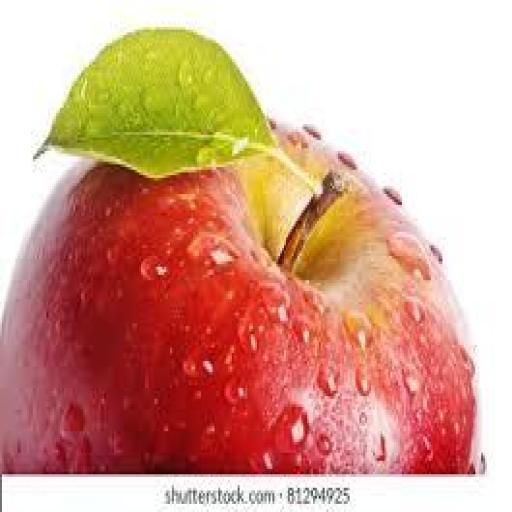apple: (0, 127, 477, 474)
